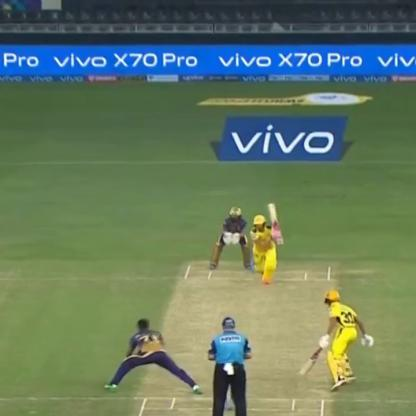bat: (262, 199, 287, 243), (300, 341, 322, 381)
pitch: (135, 260, 344, 415)
